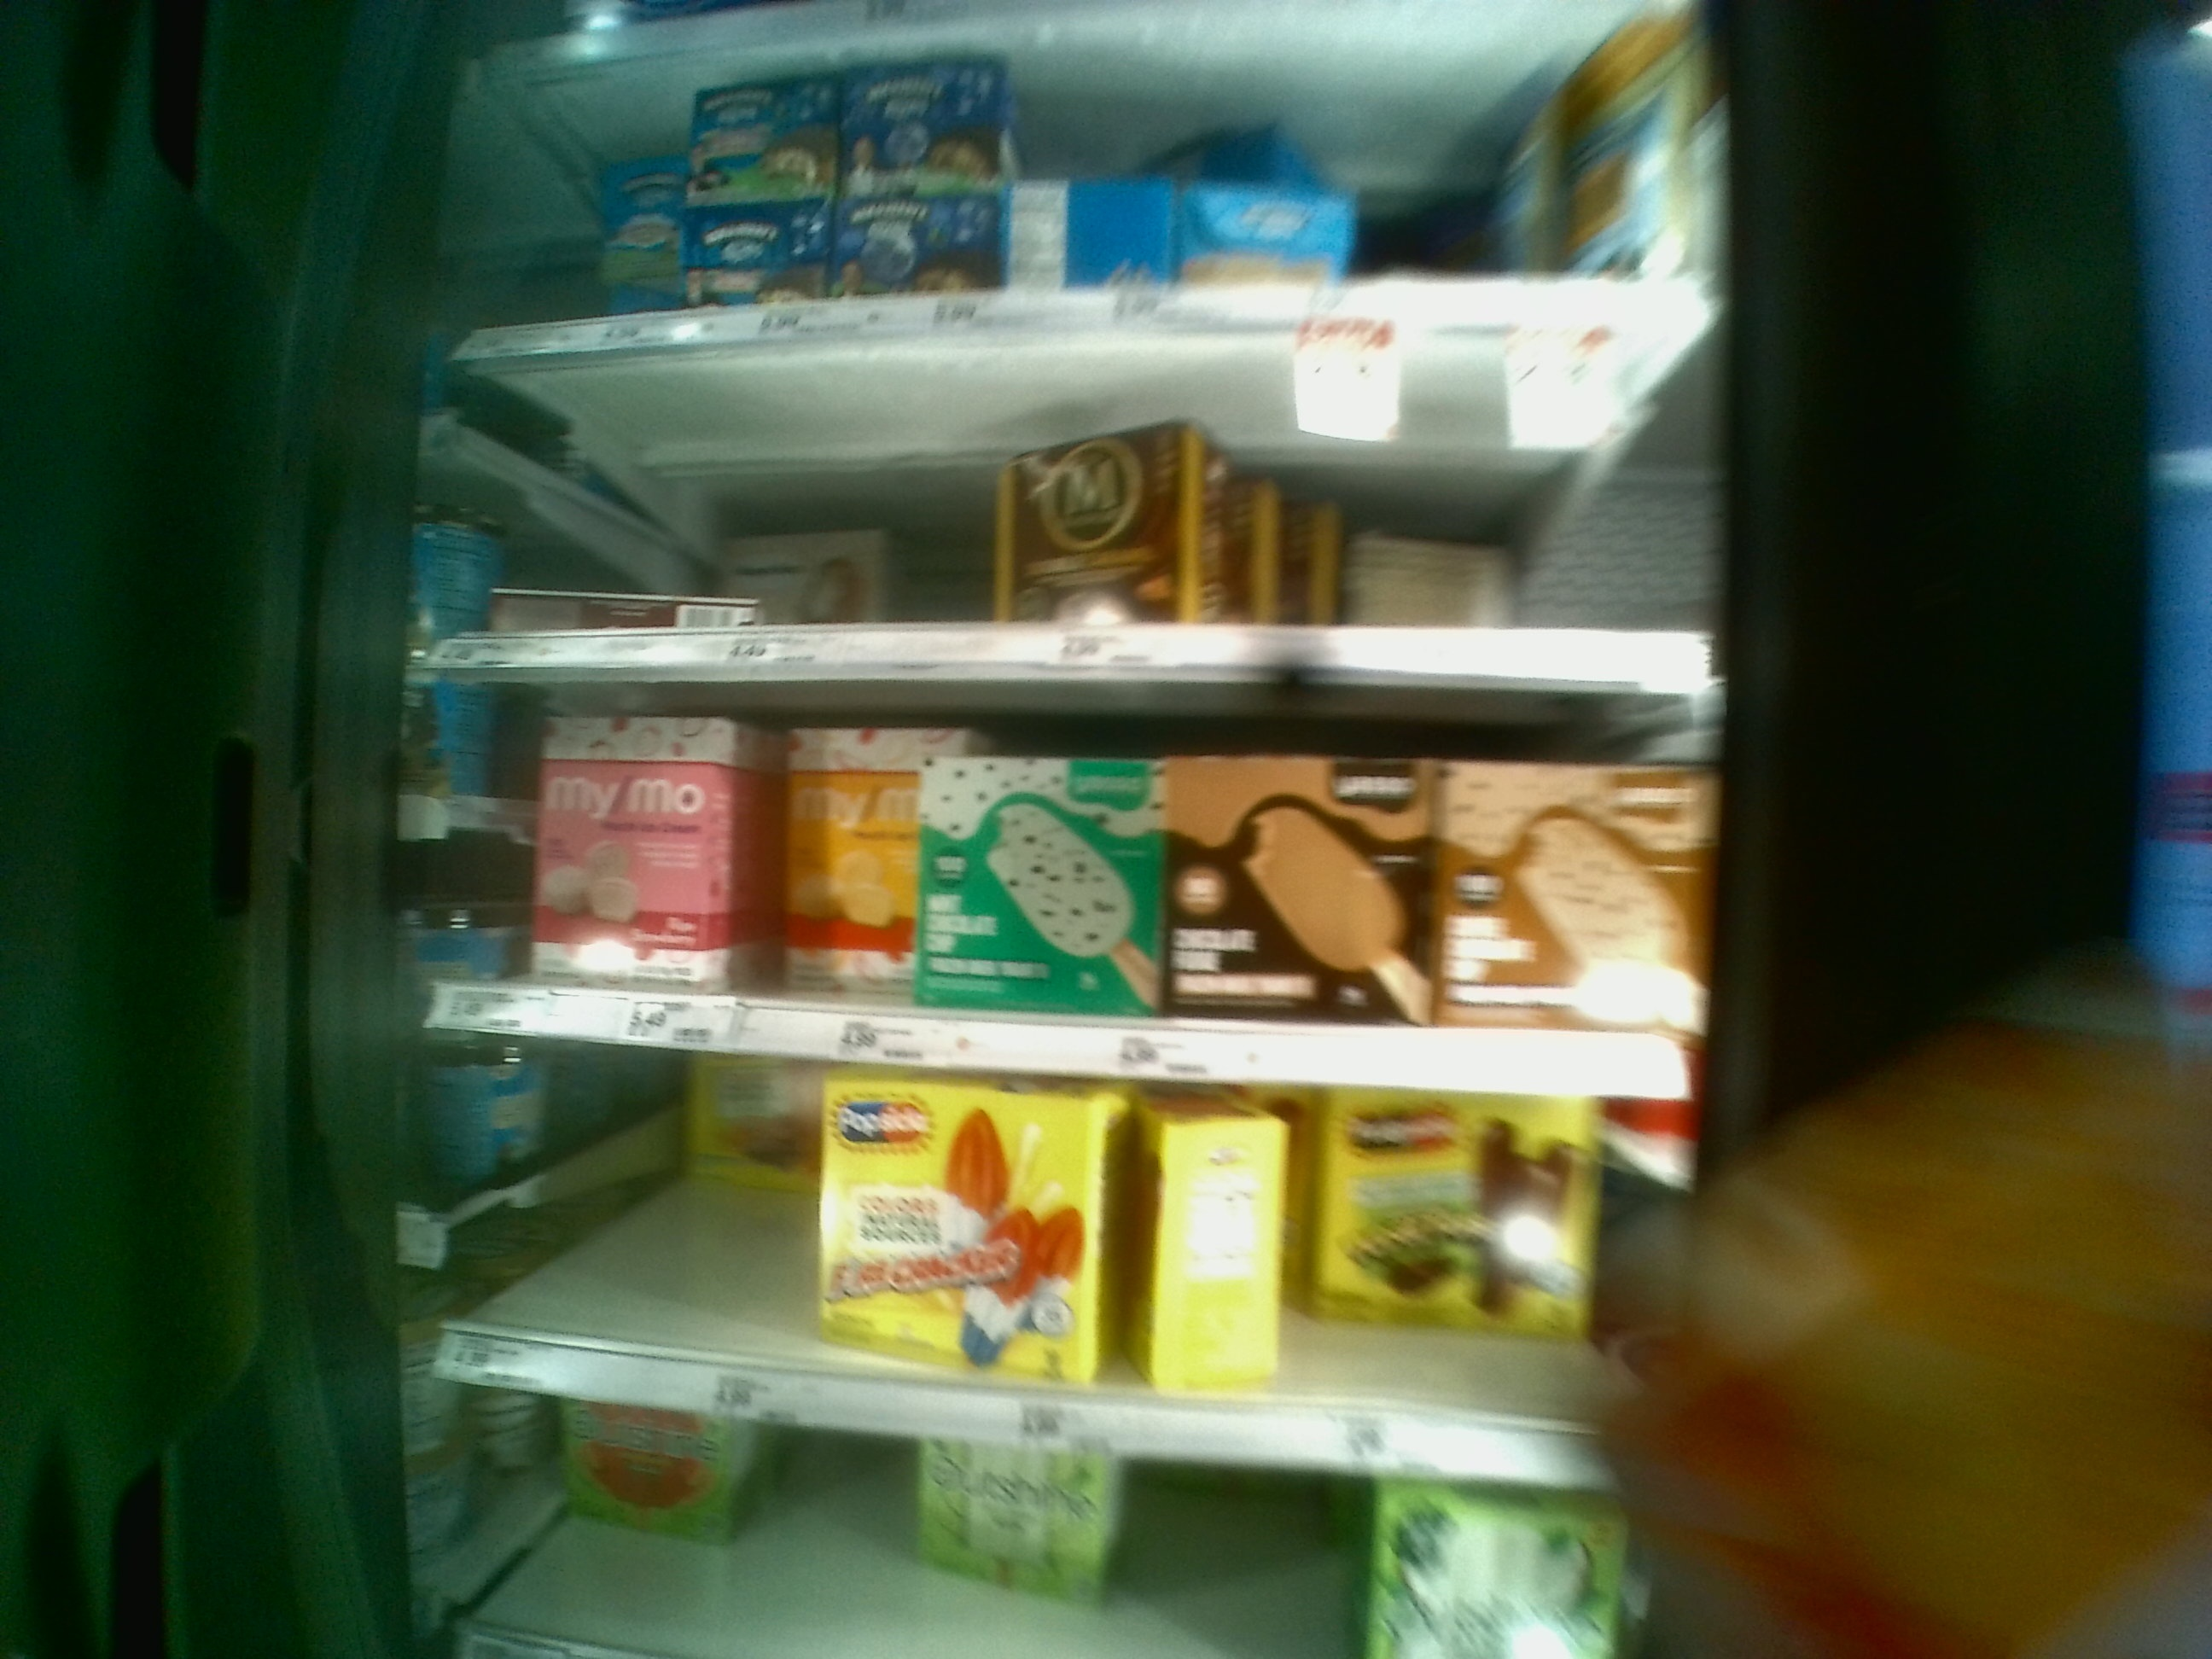shelf: (415, 673, 1724, 1093), (432, 355, 1730, 697)
